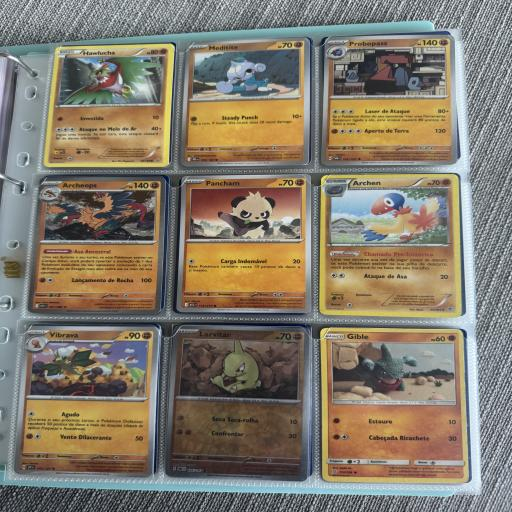card: (320, 326, 469, 485), (165, 324, 313, 482), (14, 323, 161, 477), (319, 172, 464, 318), (27, 176, 166, 314), (176, 173, 312, 313), (319, 35, 457, 167), (180, 37, 311, 167), (43, 42, 175, 169)
